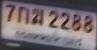letters: (18, 6, 29, 24), (32, 8, 43, 26), (84, 15, 94, 33), (48, 11, 58, 28), (6, 5, 16, 21), (61, 12, 70, 29), (72, 14, 81, 31)
province: (16, 32, 82, 46)
